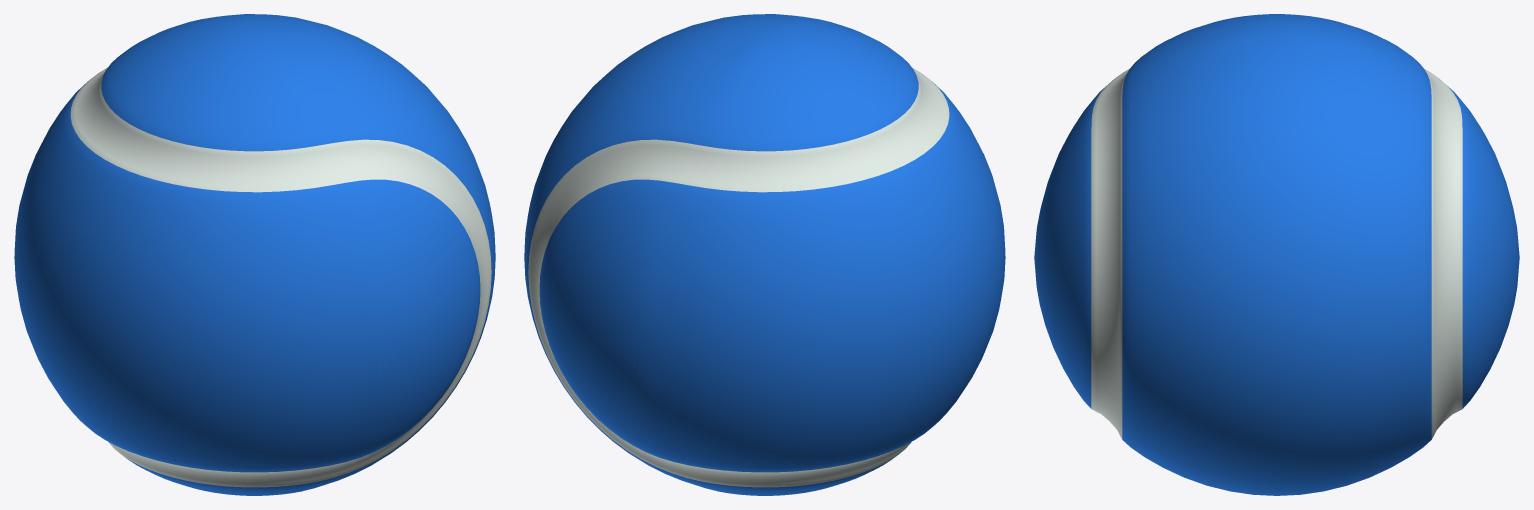
The model's file is BlueTennisBall.glb.
3 views of the same model, side by side, from view 1: azimuth 30°, elevation 25°; view 2: azimuth 150°, elevation 25°; view 3: azimuth 270°, elevation 25° (orthographic).
Parts seen in each view (by area): view 1: Sphere.001; view 2: Sphere.001; view 3: Sphere.001.
Part boxes in pixels (x1=…): Sphere.001: x1=14, y1=14, x2=495, y2=495; Sphere.001: x1=524, y1=14, x2=1005, y2=495; Sphere.001: x1=1034, y1=14, x2=1519, y2=495.
Size of the model in its own units: 1.97 by 1.99 by 1.99.
